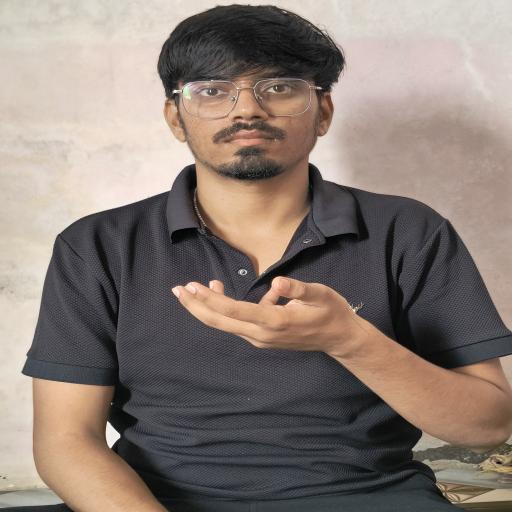Help: (154, 256, 388, 376)
